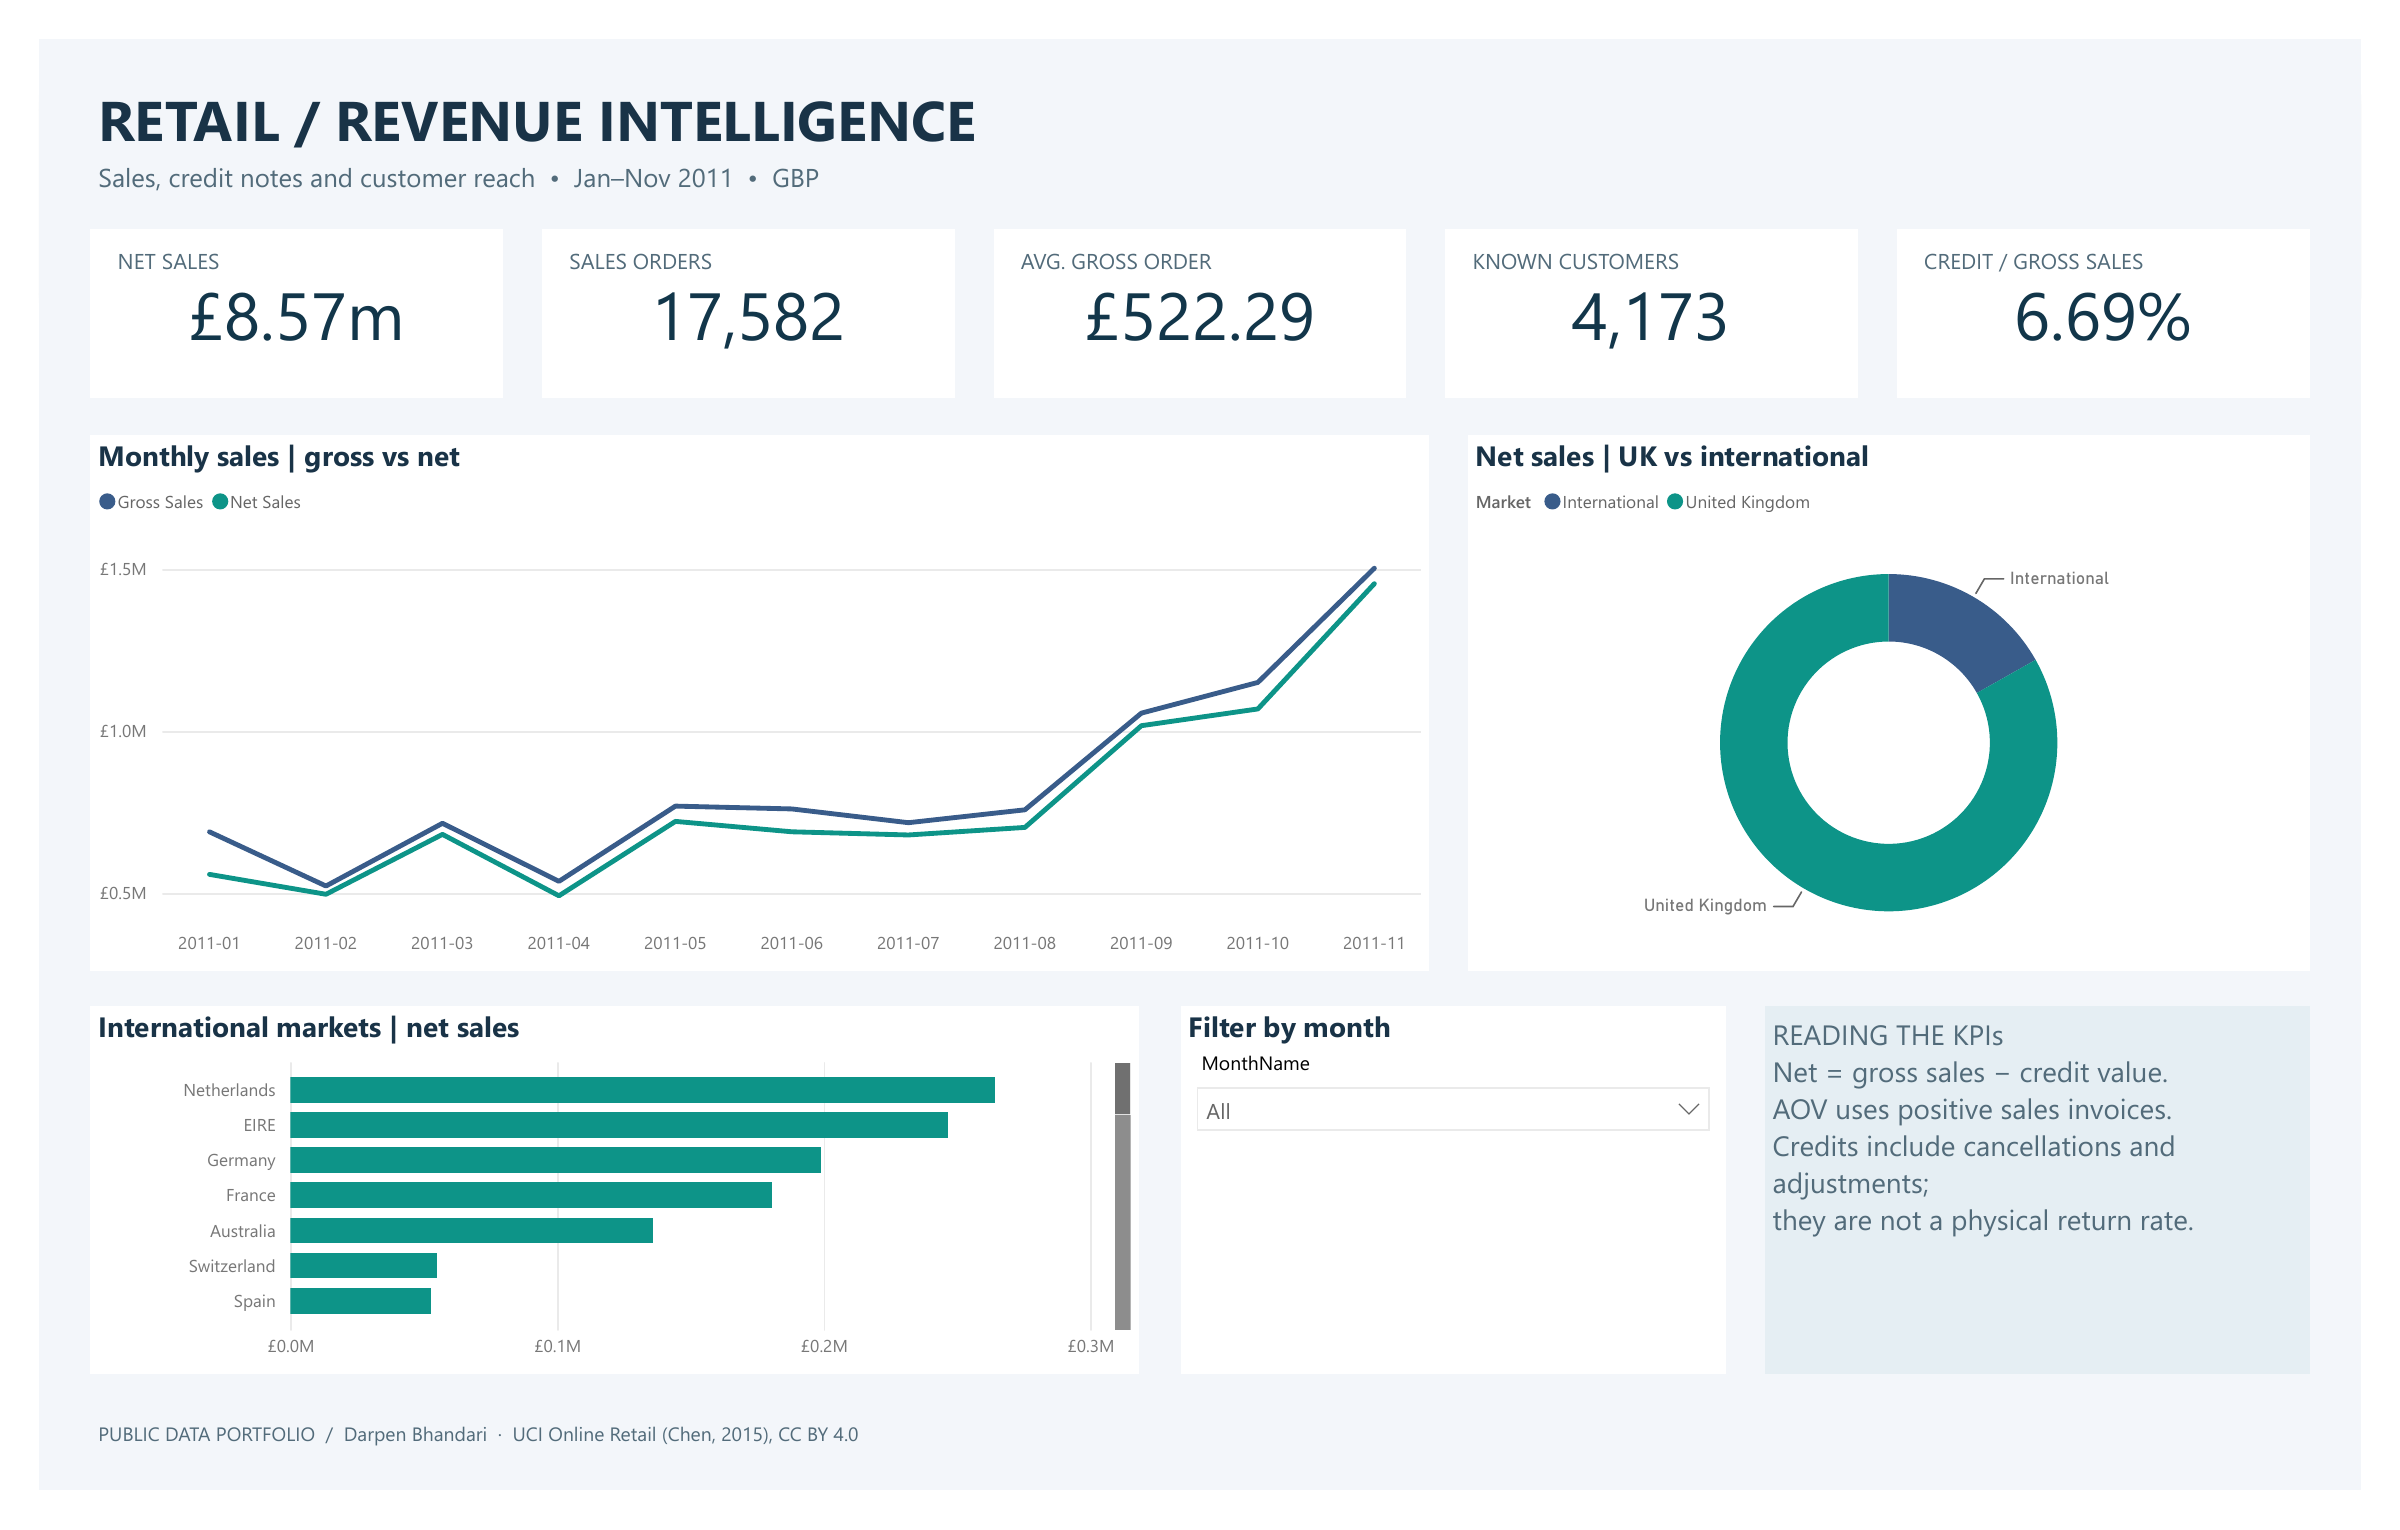

What the dashboard file says about the page in this screenshot:
{"tool":"powerbi","page":{"name":"01 · Revenue overview","canvas":[1440,900],"ordinal":0},"visuals":[{"type":"textbox","box":[32,22,1100,65],"z":1},{"type":"textbox","box":[32,70,1180,43],"z":2},{"type":"textbox","box":[32,850,1370,46],"z":3},{"type":"card","fields":{"Values":["FactSales.Net Sales Display"]},"box":[32,118,256,105],"z":7},{"type":"textbox","box":[44,123,232,40],"z":8},{"type":"card","fields":{"Values":["FactSales.Orders Display"]},"box":[312,118,256,105],"z":9},{"type":"textbox","box":[324,123,232,40],"z":10},{"type":"card","fields":{"Values":["FactSales.Average Order Value Display"]},"box":[592,118,256,105],"z":11},{"type":"textbox","box":[604,123,232,40],"z":12},{"type":"card","fields":{"Values":["FactSales.Known Customers Display"]},"box":[872,118,256,105],"z":13},{"type":"textbox","box":[884,123,232,40],"z":14},{"type":"card","fields":{"Values":["FactSales.Credit Value Ratio Display"]},"box":[1152,118,256,105],"z":15},{"type":"textbox","box":[1164,123,232,40],"z":16},{"type":"lineChart","title":"Monthly sales | gross vs net","fields":{"Category":["DimDate.Month"],"Y":["FactSales.Gross Sales","FactSales.Net Sales"]},"box":[32,246,830,332],"z":17},{"type":"donutChart","title":"Net sales | UK vs international","fields":{"Category":["DimCountry.Market"],"Y":["FactSales.Net Sales"]},"box":[886,246,522,332],"z":18},{"type":"clusteredBarChart","title":"International markets | net sales","fields":{"Category":["DimCountry.Country"],"Y":["FactSales.Net Sales"]},"box":[32,600,650,228],"z":19},{"type":"slicer","title":"Filter by month","fields":{"Values":["DimDate.MonthName"]},"box":[708,600,338,228],"z":20},{"type":"textbox","box":[1070,600,338,228],"z":21}]}

Visuals, with their boxes in screenshot pixels (x1, y1, x2, y2), scaled from the page's 1440x900 canvas onto the 2400x1530 screenshot:
textbox: detection(53, 37, 1887, 148)
textbox: detection(53, 119, 2020, 192)
textbox: detection(53, 1445, 2337, 1523)
card - FactSales.Net Sales Display: detection(53, 201, 480, 379)
textbox: detection(73, 209, 460, 277)
card - FactSales.Orders Display: detection(520, 201, 947, 379)
textbox: detection(540, 209, 927, 277)
card - FactSales.Average Order Value Display: detection(987, 201, 1413, 379)
textbox: detection(1007, 209, 1393, 277)
card - FactSales.Known Customers Display: detection(1453, 201, 1880, 379)
textbox: detection(1473, 209, 1860, 277)
card - FactSales.Credit Value Ratio Display: detection(1920, 201, 2347, 379)
textbox: detection(1940, 209, 2327, 277)
"Monthly sales | gross vs net" lineChart: detection(53, 418, 1437, 983)
"Net sales | UK vs international" donutChart: detection(1477, 418, 2347, 983)
"International markets | net sales" clusteredBarChart: detection(53, 1020, 1137, 1408)
"Filter by month" slicer: detection(1180, 1020, 1743, 1408)
textbox: detection(1783, 1020, 2347, 1408)
